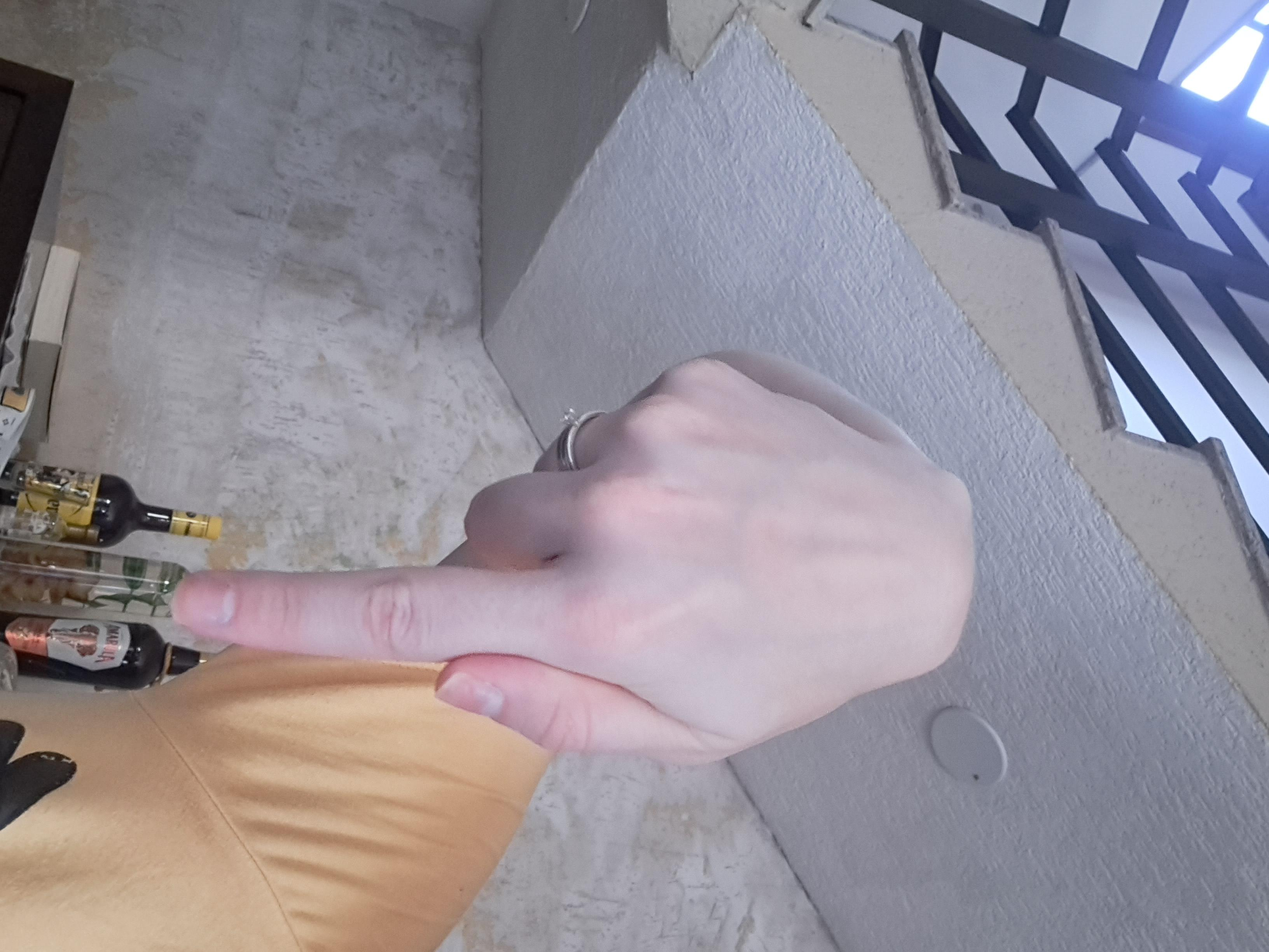Q: (487, 213, 1021, 855)
